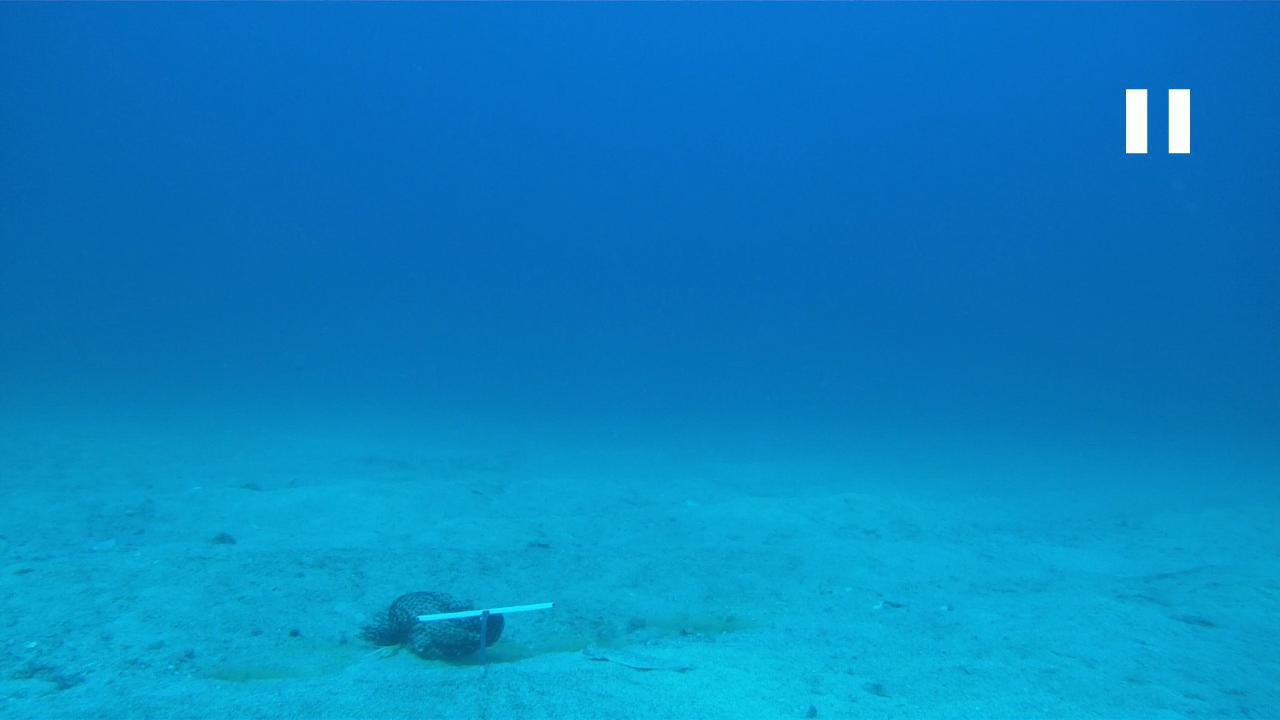bothus: (575, 641, 703, 677)
